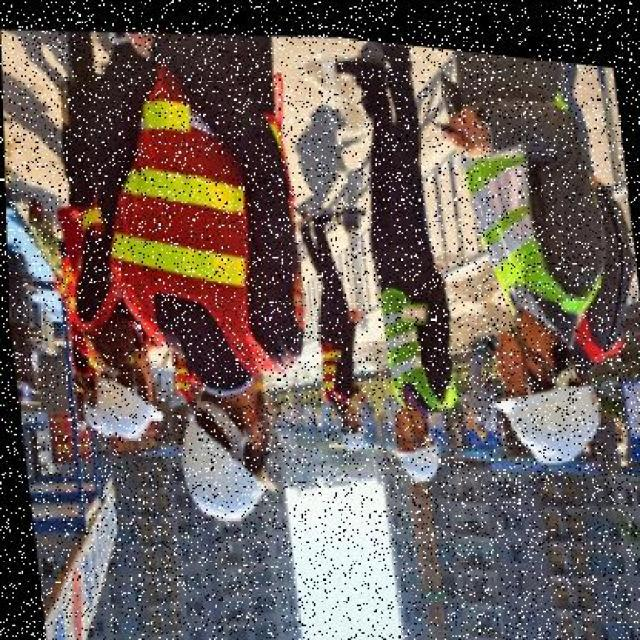helmet: (483, 333, 606, 465), (171, 389, 287, 527), (82, 348, 166, 448), (382, 406, 444, 479)
vest: (90, 34, 276, 379), (459, 98, 583, 312), (374, 271, 438, 401)
